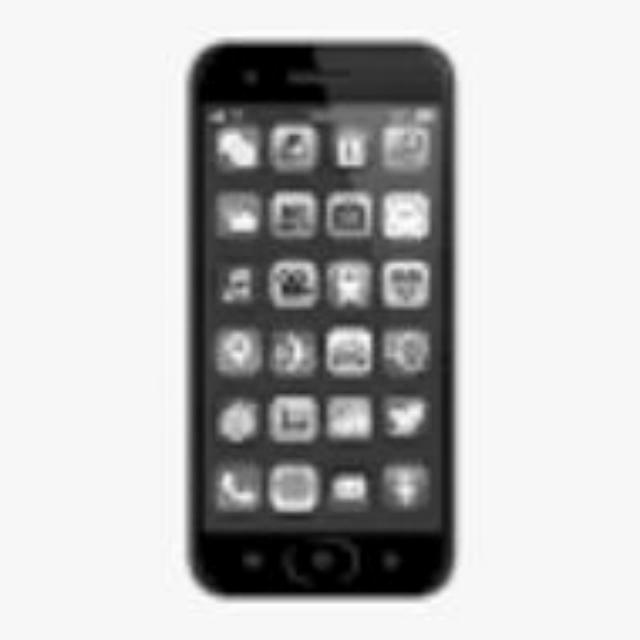fake: (188, 34, 460, 602)
